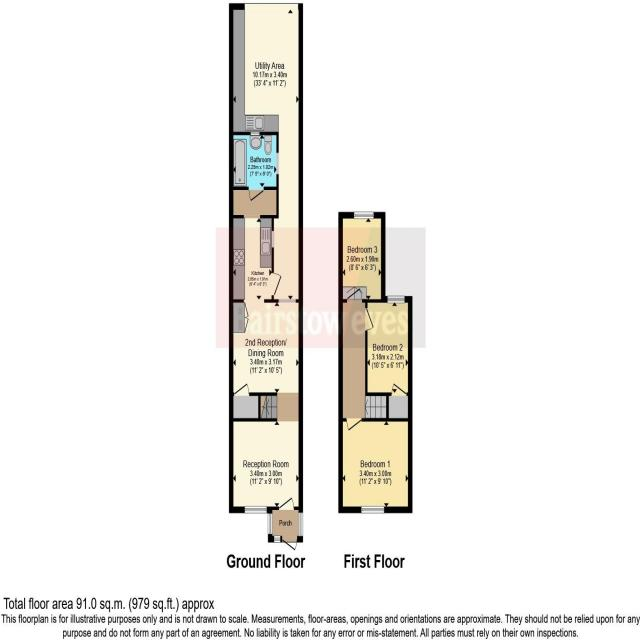DOOR: (271, 273, 282, 296), (346, 417, 362, 432), (233, 382, 250, 396), (391, 382, 407, 396), (365, 307, 374, 331), (278, 497, 294, 510)
ROOM: (228, 2, 304, 303), (229, 215, 303, 516), (338, 418, 413, 514), (365, 296, 413, 396), (338, 212, 385, 303)
WINDOW: (244, 506, 267, 514), (361, 506, 384, 514), (354, 211, 374, 219), (267, 512, 273, 535), (298, 511, 303, 537), (387, 296, 405, 303), (276, 152, 280, 175), (278, 299, 296, 303), (273, 535, 281, 543), (271, 230, 274, 248)
